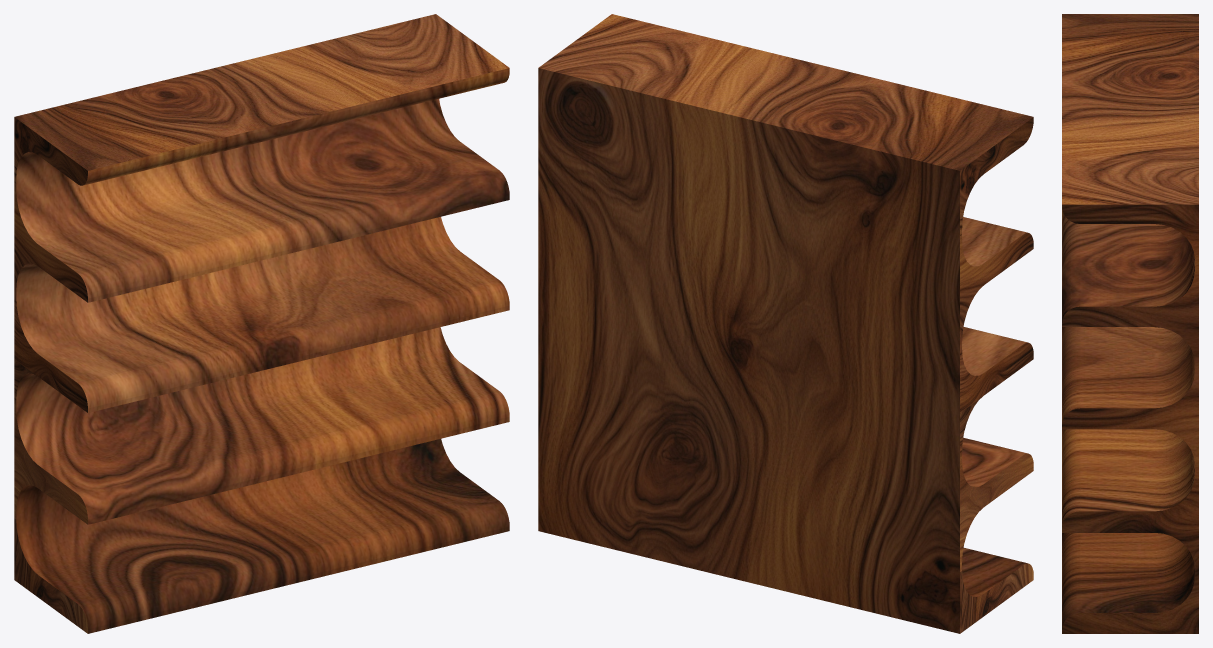
Rendered from wow.glb.
3 views of the same model, side by side, from view 1: azimuth 30°, elevation 25°; view 2: azimuth 150°, elevation 25°; view 3: azimuth 270°, elevation 25° (orthographic). The views are drawn at different scales.
Visible parts, largest first — view 1: Plane_0; view 2: Plane_0; view 3: Plane_0.
Part boxes in pixels (bbox=[...]): Plane_0: bbox=[14, 14, 509, 633]; Plane_0: bbox=[538, 14, 1033, 633]; Plane_0: bbox=[1062, 14, 1198, 633].
Bounding box in the file's own units: 2 × 2.1 × 0.6058.
Materials: 1 (1 with a texture image).
